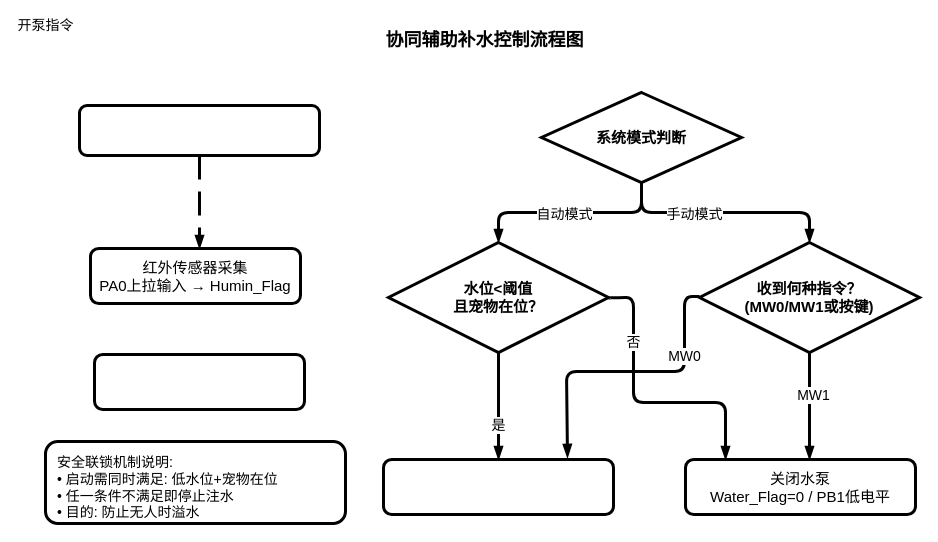
Some shapes in this 938 by 542 pixel diagram are drawn without their labels. The shapes that lost their labels are listed below. From the top down, each one's centre as x and y in pixels, then its label:
At pixel 199 130: "状态上报至APP (P字段 = Water_Flag)".
At pixel 199 381: "ADC水位采集 PA1模拟输入 → 水位百分比".
At pixel 498 487: "开启水泵 Water_Flag=1 / PB1高电平".
